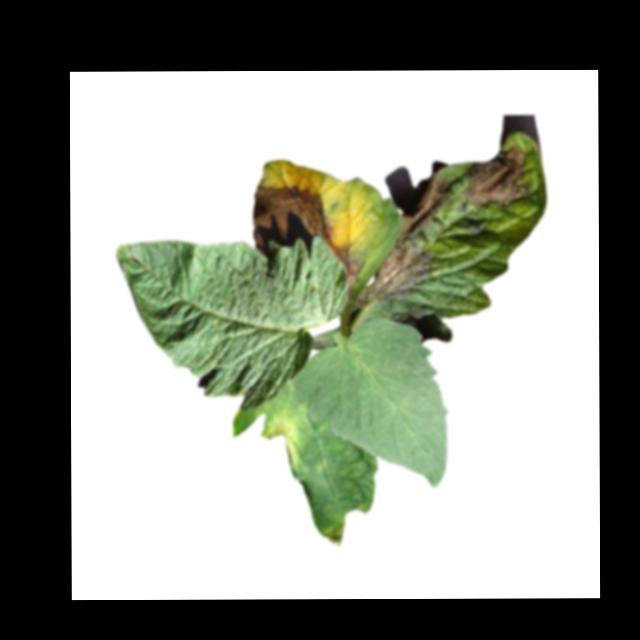Late_blight: (347, 172, 451, 312), (251, 183, 332, 248), (459, 145, 529, 209), (260, 407, 299, 471), (333, 245, 358, 300), (319, 523, 344, 547)
healthy: (114, 236, 350, 412), (289, 317, 449, 488)
